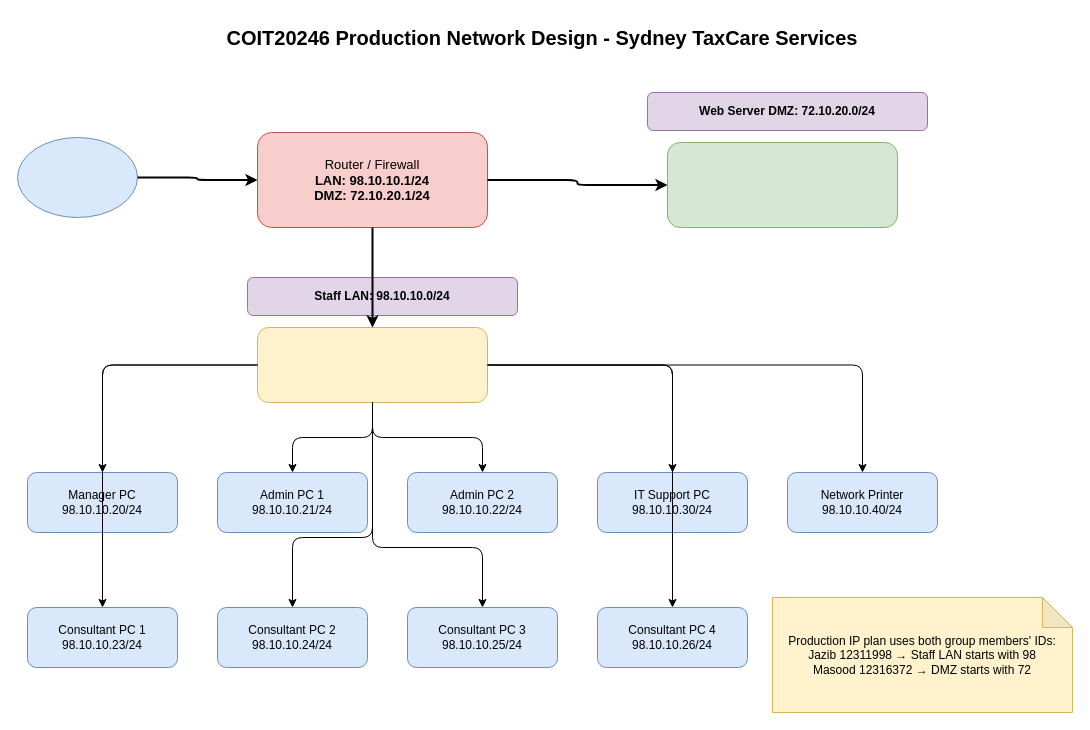
Image size: 1090x730. Some labels were removed from this diagram. The shapes that lost their labels are listed below. From the top down, each one's centre as x and y in pixels, then its label:
the point at 77,177: Internet
the point at 782,185: DMZ Web Server 72.10.20.10/24 Hosts business website
the point at 372,364: Internal Switch Mgmt: 98.10.10.2/24
